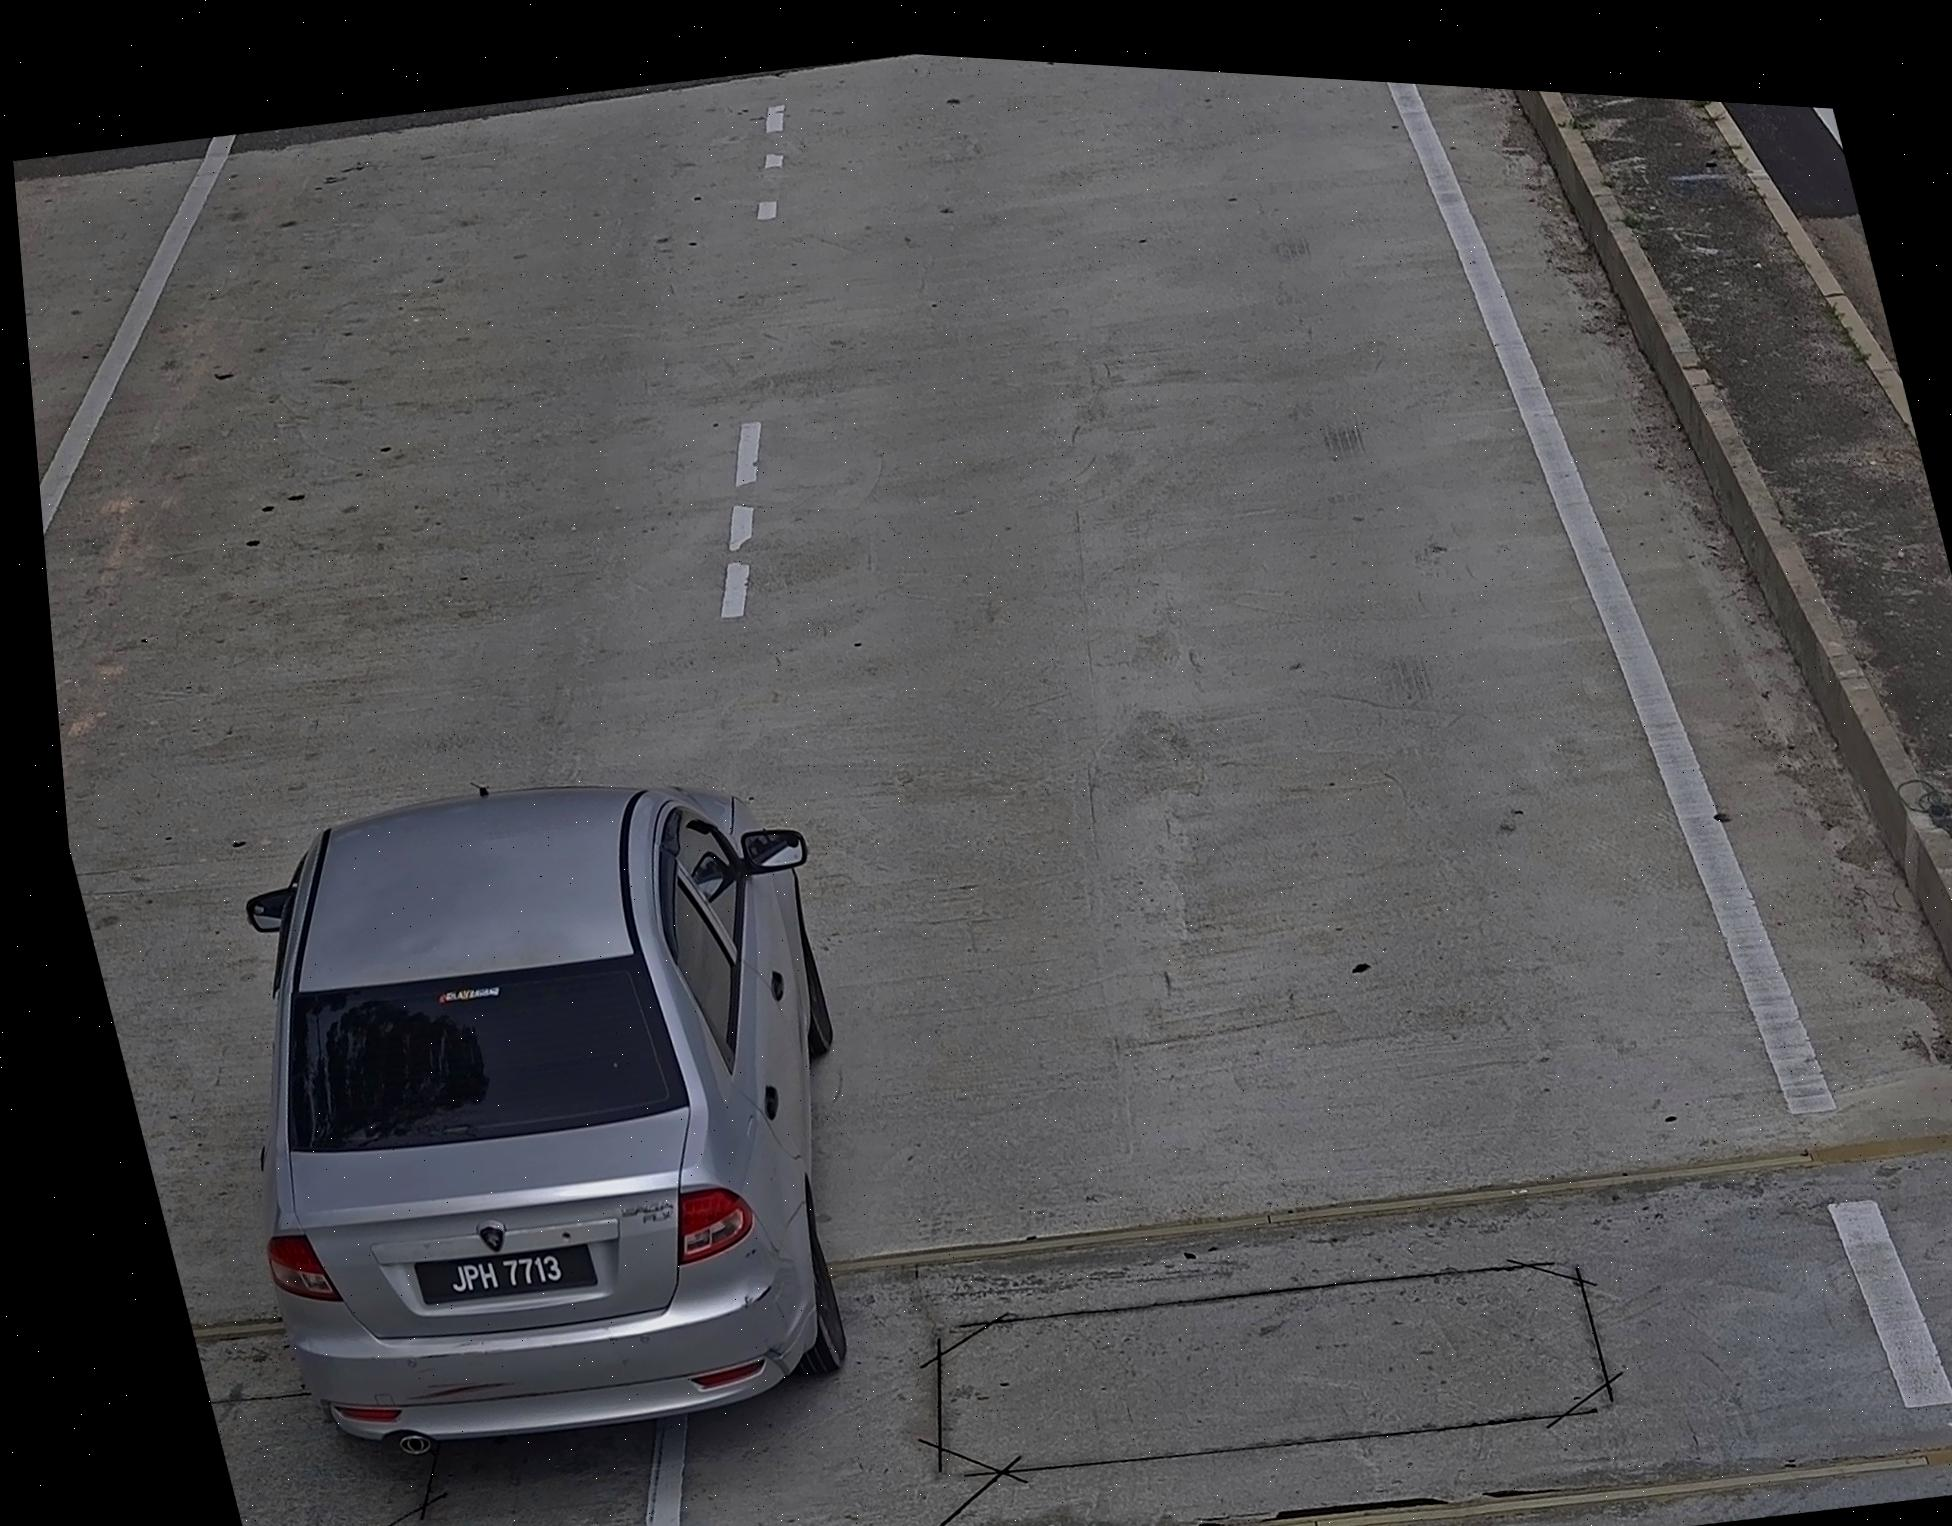non broken: (417, 1236, 588, 1314)
